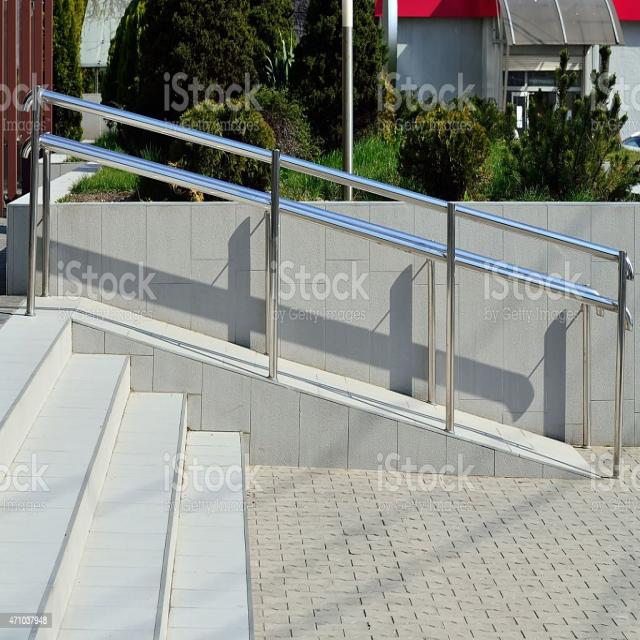AVOID: (0, 351, 251, 640)
CLIMB: (71, 296, 601, 478)
